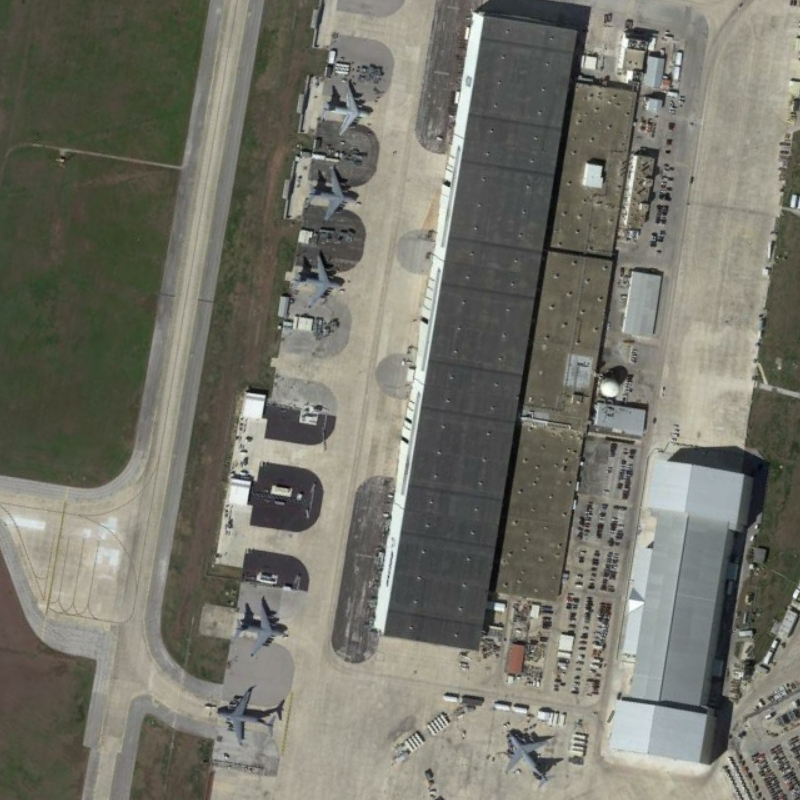A3: (500, 726, 564, 794), (215, 683, 277, 750), (229, 596, 290, 659), (287, 249, 345, 313), (301, 163, 359, 226), (316, 81, 377, 138)
